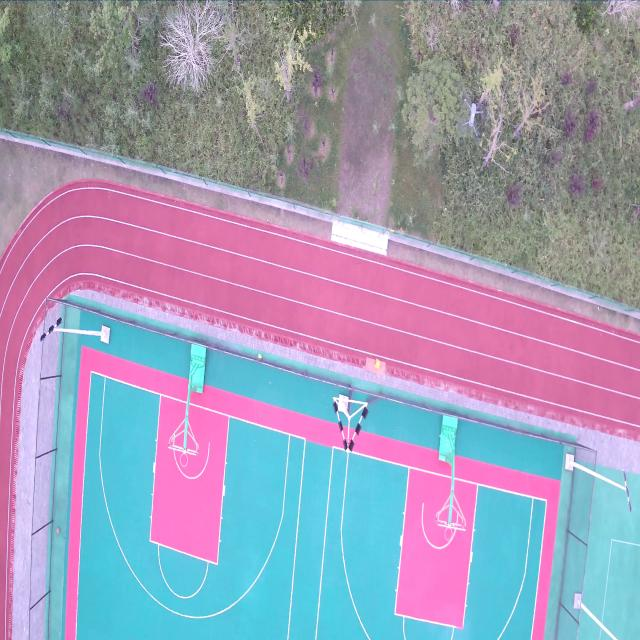UAV: (462, 98, 484, 138)
